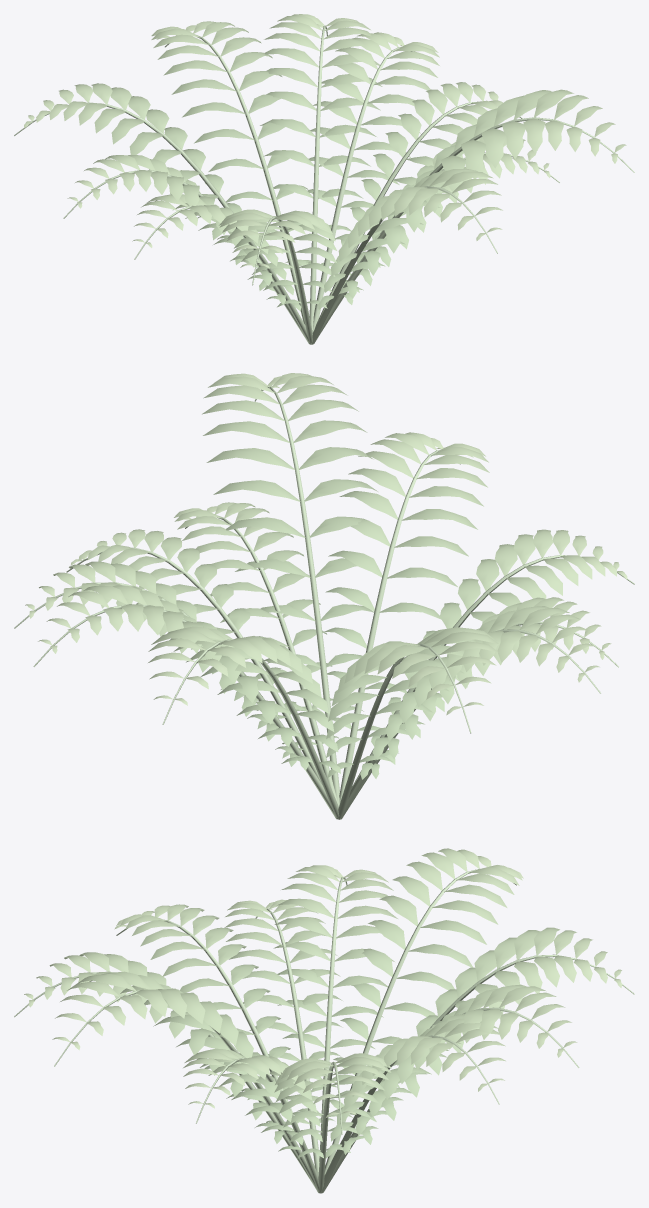
File: SM_WLA_Fern_B.fbx
3 views of the same model, one above another, from view 1: azimuth 30°, elevation 25°; view 2: azimuth 150°, elevation 25°; view 3: azimuth 270°, elevation 25° (orthographic). The views are drawn at different scales.
Visible parts, largest first — view 1: SM_WLA_Fern_B; view 2: SM_WLA_Fern_B; view 3: SM_WLA_Fern_B.
Boxes of the visible parts, x1,y1,x2,y2 form: SM_WLA_Fern_B: (14,14,634,344); SM_WLA_Fern_B: (14,373,634,819); SM_WLA_Fern_B: (14,848,634,1193).
Bounding box in the file's own units: 1.51 × 1.36 × 0.7594.
